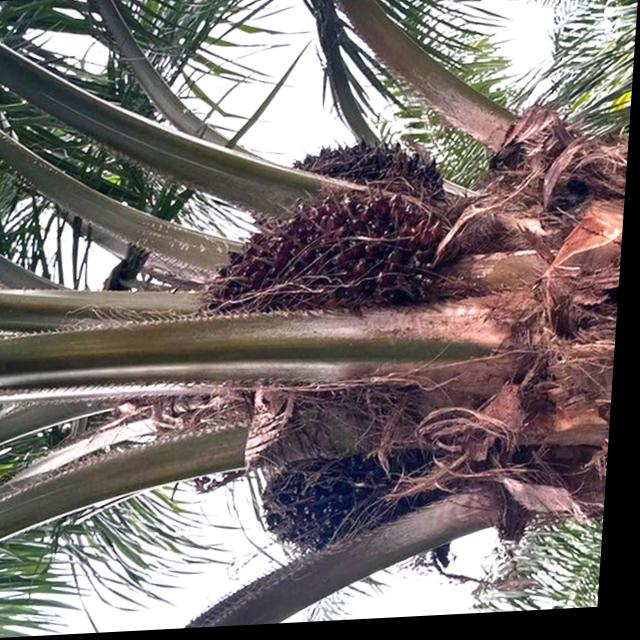ripe: (191, 169, 458, 346)
